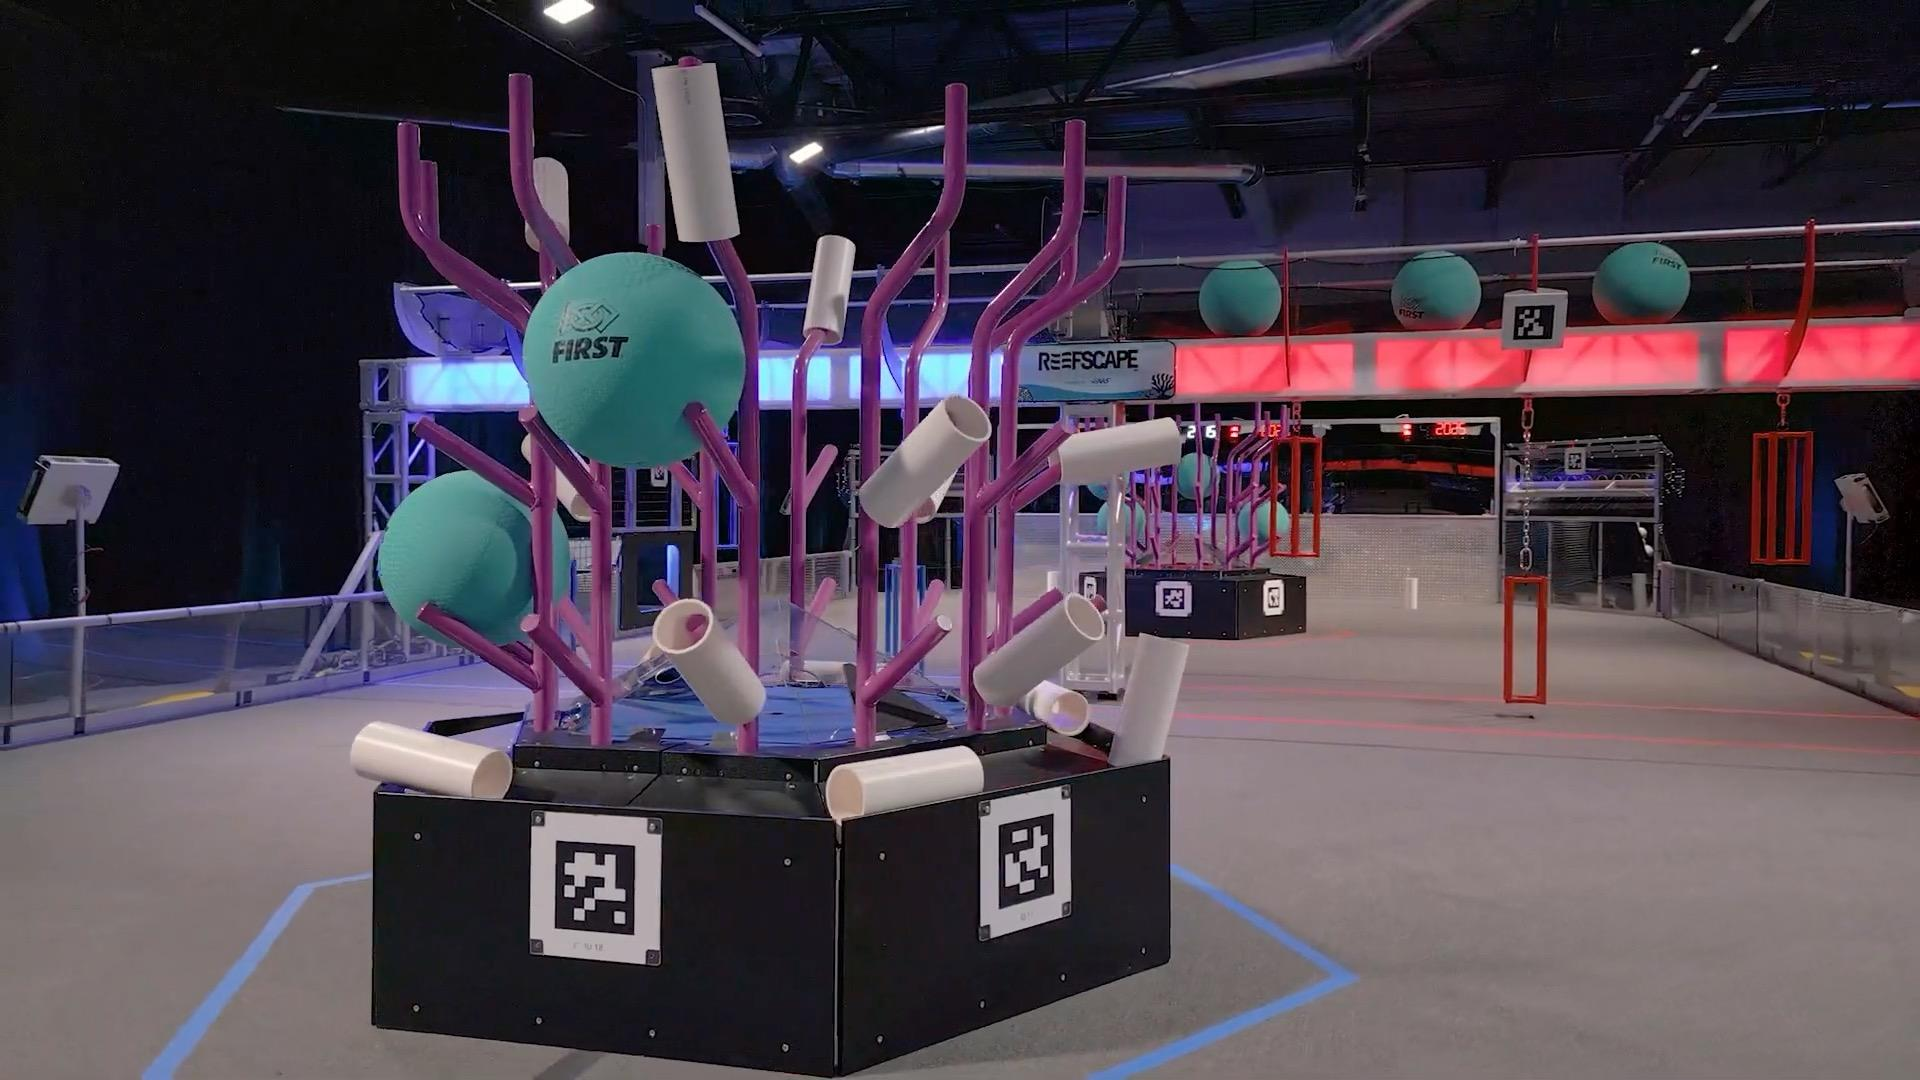ALGAE: (520, 249, 746, 468), (376, 467, 571, 650), (1592, 240, 1691, 324), (1389, 251, 1481, 330), (1197, 257, 1280, 336), (1095, 495, 1147, 545), (1236, 496, 1290, 541), (1175, 448, 1218, 498)
CORAL: (855, 392, 992, 527), (650, 57, 740, 243), (971, 589, 1104, 705), (650, 595, 766, 727), (349, 717, 512, 800), (825, 742, 984, 819), (1106, 630, 1189, 765), (1056, 415, 1182, 484), (800, 232, 855, 344), (525, 157, 568, 252)
